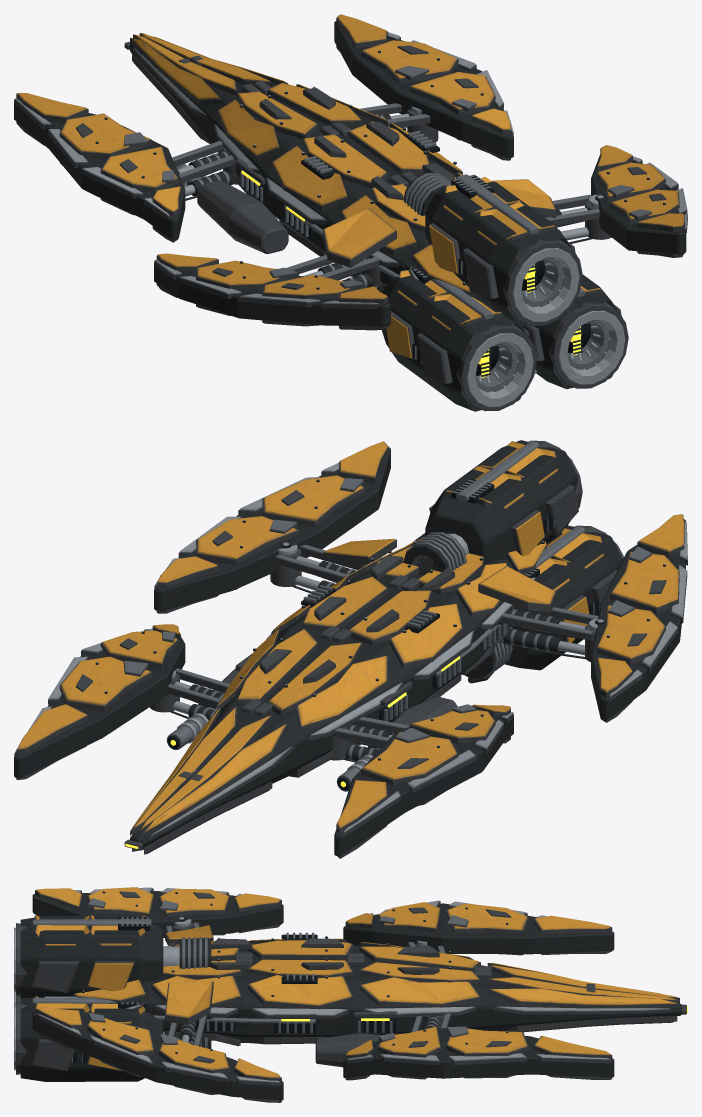
The model's file is marauder.glb.
3 views of the same model, one above another, from view 1: azimuth 30°, elevation 25°; view 2: azimuth 150°, elevation 25°; view 3: azimuth 270°, elevation 25° (orthographic). The views are drawn at different scales.
Visible parts, largest first — view 1: Marauder.001; view 2: Marauder.001; view 3: Marauder.001.
Part boxes in pixels (bbox=[...]): Marauder.001: bbox=[14, 14, 687, 411]; Marauder.001: bbox=[14, 440, 687, 858]; Marauder.001: bbox=[14, 887, 687, 1102].
Bounding box in the file's own units: 6.73 × 2.25 × 10.27.
7 materials, 7 textured.
